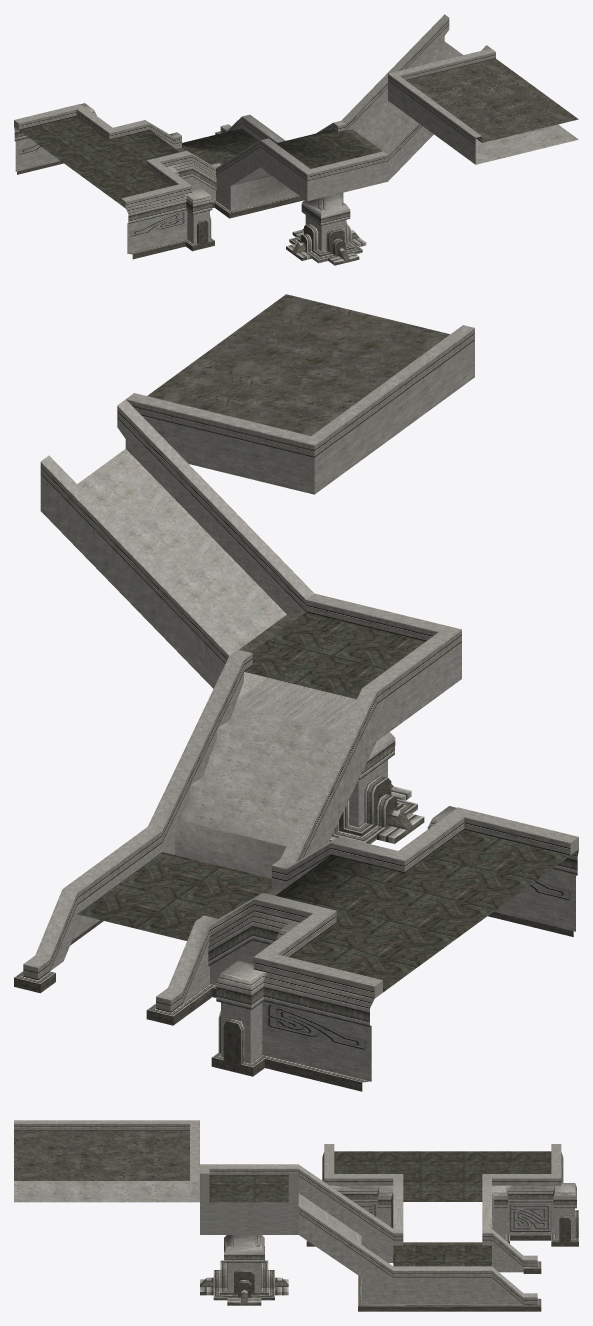
The model's file is DWARF_PALACE_FORGE_STAIRSC.fbx.
3 views of the same model, one above another, from view 1: azimuth 30°, elevation 25°; view 2: azimuth 150°, elevation 25°; view 3: azimuth 270°, elevation 25° (orthographic). The views are drawn at different scales.
Parts seen in each view (by area): view 1: DWARF_PALACE_FORGE_STAIRSC; view 2: DWARF_PALACE_FORGE_STAIRSC; view 3: DWARF_PALACE_FORGE_STAIRSC.
Part boxes in pixels (box(x1,y1,x2,y2)): DWARF_PALACE_FORGE_STAIRSC: box(14, 14, 578, 265); DWARF_PALACE_FORGE_STAIRSC: box(14, 294, 578, 1091); DWARF_PALACE_FORGE_STAIRSC: box(14, 1120, 578, 1311).
Bounding box in the file's own units: 190008 × 106026 × 286159.
Materials: 10 (10 with a texture image).
